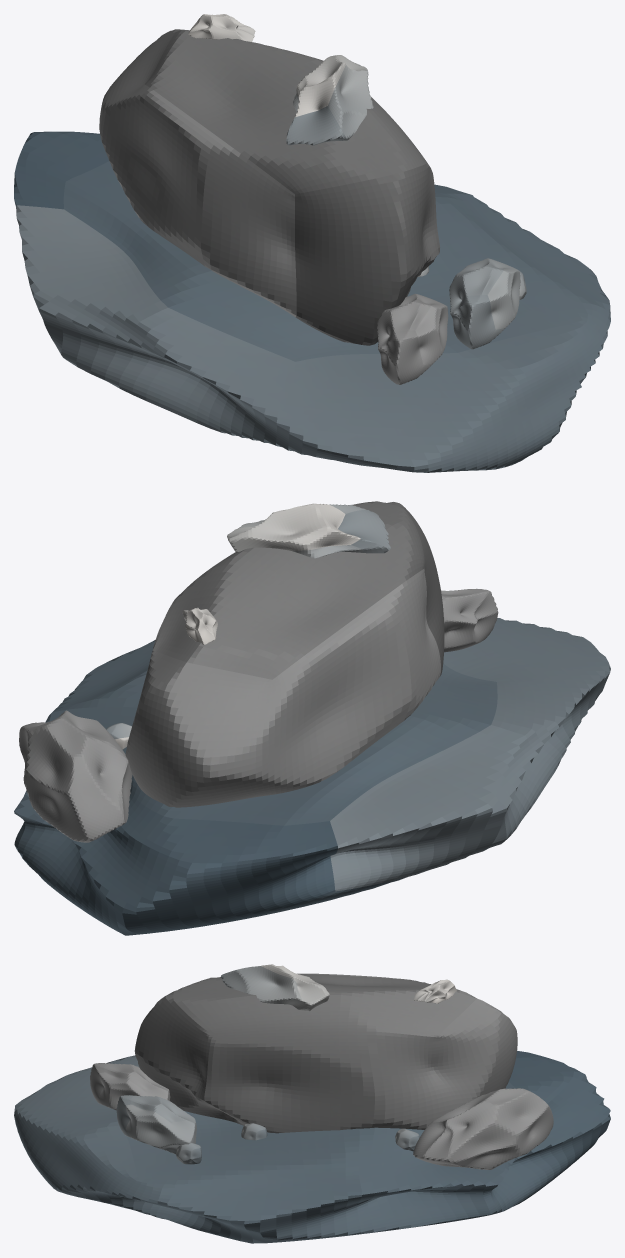
Rendered from rock-clock.fbx.
3 renders of one model, top to bottom at view 1: azimuth 30°, elevation 25°; view 2: azimuth 150°, elevation 25°; view 3: azimuth 270°, elevation 25°, orthographic. The views are drawn at different scales.
Parts seen in each view (by area): view 1: Clock; view 2: Clock; view 3: Clock.
Part boxes in pixels (x1=…): Clock: x1=14, y1=14, x2=610, y2=472; Clock: x1=14, y1=501, x2=610, y2=935; Clock: x1=14, y1=964, x2=610, y2=1243.
Size of the model in its own units: 184 by 111 by 269.
Materials: 10 (10 with a texture image).
